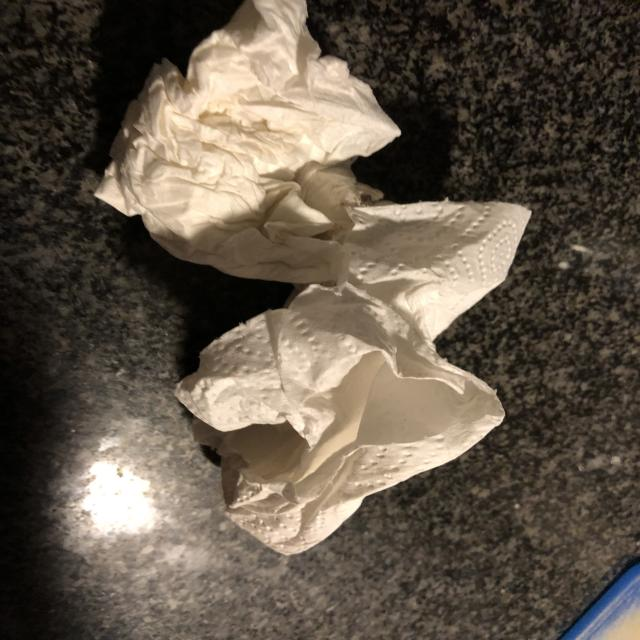kitchen paper: (165, 203, 544, 560), (93, 0, 400, 284)
